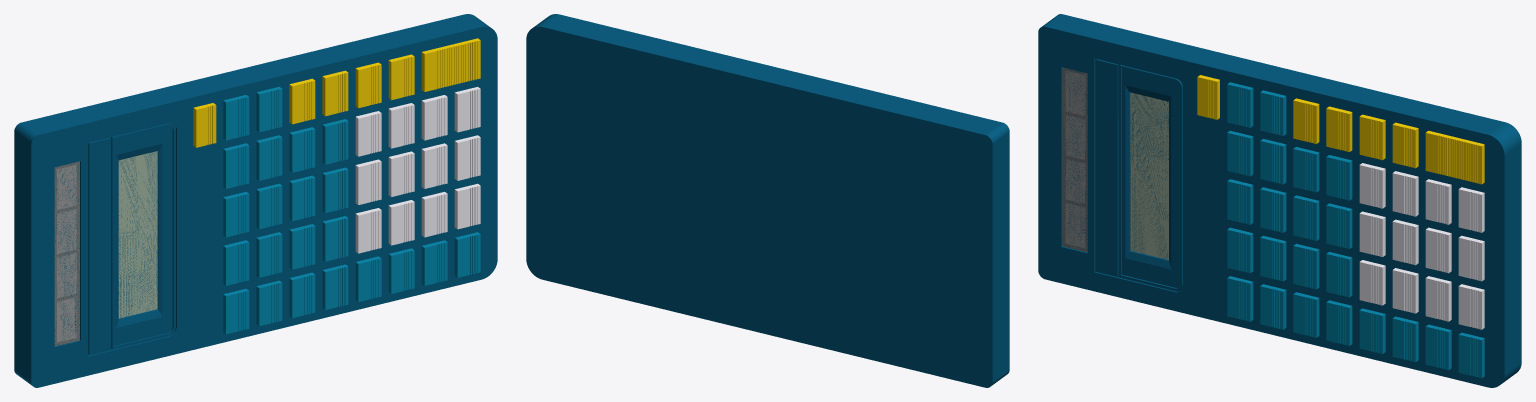
3 views of the same model, side by side, from view 1: azimuth 30°, elevation 25°; view 2: azimuth 150°, elevation 25°; view 3: azimuth 330°, elevation 25° (orthographic).
Visible parts, largest first — view 1: calculator; view 2: calculator; view 3: calculator.
Part boxes in pixels (x1,y1,x2,y2): calculator: (14,14,497,387); calculator: (526,14,1009,387); calculator: (1038,14,1521,387).
Bounding box in the file's own units: 5.55 × 2.87 × 0.4134.
